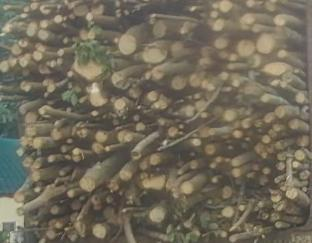large: (73, 59, 102, 79), (144, 44, 166, 63), (263, 61, 290, 76), (256, 33, 275, 53), (90, 84, 107, 106), (143, 175, 166, 190), (119, 35, 136, 54), (237, 40, 255, 56), (80, 177, 95, 192)
medium: (149, 208, 164, 223), (154, 22, 166, 37), (212, 20, 226, 32), (94, 225, 106, 238), (172, 77, 185, 89), (189, 75, 202, 87), (152, 69, 165, 80), (118, 131, 131, 142), (112, 74, 122, 88), (32, 137, 43, 149), (95, 131, 107, 142), (91, 143, 103, 154), (10, 45, 22, 56), (29, 169, 40, 181), (182, 183, 193, 194), (220, 0, 231, 11), (226, 110, 237, 121), (287, 187, 298, 198), (25, 26, 36, 37), (19, 137, 30, 148), (215, 39, 227, 49), (274, 15, 286, 25), (222, 207, 234, 217), (120, 170, 131, 180), (243, 14, 254, 24), (38, 30, 49, 40), (19, 57, 29, 68), (295, 150, 305, 161), (298, 136, 308, 147), (23, 157, 33, 168), (130, 151, 141, 161), (75, 129, 87, 138), (115, 99, 125, 109), (150, 155, 160, 165), (275, 107, 285, 117), (290, 119, 300, 129), (26, 126, 36, 136), (26, 113, 36, 123), (14, 192, 24, 202), (261, 135, 271, 145), (51, 131, 61, 141), (21, 82, 31, 92), (189, 160, 199, 170), (296, 93, 305, 104), (0, 61, 9, 72), (107, 183, 118, 192), (70, 200, 81, 209), (243, 117, 252, 128), (206, 144, 215, 154), (33, 51, 43, 60), (17, 39, 27, 48), (277, 152, 287, 161), (265, 144, 275, 153), (259, 175, 269, 184), (136, 123, 146, 132), (218, 50, 228, 59), (223, 187, 231, 198), (186, 105, 194, 116), (148, 92, 157, 101), (231, 159, 240, 168), (232, 168, 241, 177), (8, 57, 17, 66), (233, 130, 242, 139), (139, 161, 148, 170), (275, 141, 284, 150), (255, 144, 264, 153), (228, 53, 237, 62), (221, 71, 229, 81), (278, 49, 286, 58), (277, 162, 286, 170), (39, 20, 48, 28), (80, 31, 88, 40), (86, 13, 94, 22), (18, 105, 26, 114), (48, 84, 55, 93), (88, 32, 95, 40), (266, 115, 273, 122), (55, 15, 62, 22)
small: (168, 127, 177, 136), (16, 208, 24, 217), (260, 94, 268, 102), (47, 155, 55, 163), (268, 130, 276, 138), (51, 207, 58, 216), (47, 231, 54, 239), (39, 107, 46, 115), (273, 125, 281, 132), (210, 163, 217, 170), (292, 161, 299, 168), (56, 221, 63, 228), (274, 177, 281, 184), (61, 146, 68, 153), (73, 155, 80, 162), (221, 232, 228, 239), (228, 62, 235, 69), (92, 109, 99, 116), (67, 190, 73, 198), (239, 206, 245, 213), (281, 81, 287, 88), (107, 196, 113, 203), (254, 121, 261, 127), (263, 167, 269, 174), (44, 60, 51, 66), (63, 37, 69, 44), (51, 61, 57, 68), (229, 236, 236, 242), (212, 176, 218, 182), (194, 139, 200, 145), (228, 144, 234, 150), (260, 152, 266, 158), (276, 221, 282, 227), (178, 123, 184, 129), (17, 149, 23, 155), (80, 195, 86, 201), (257, 127, 263, 133), (43, 91, 49, 97), (68, 71, 74, 77), (59, 170, 65, 176), (64, 155, 70, 161), (177, 168, 183, 174), (201, 112, 207, 118), (211, 12, 217, 18), (207, 19, 213, 25), (58, 48, 63, 55), (105, 146, 111, 151), (246, 136, 251, 142), (74, 148, 79, 154), (57, 59, 63, 64)
